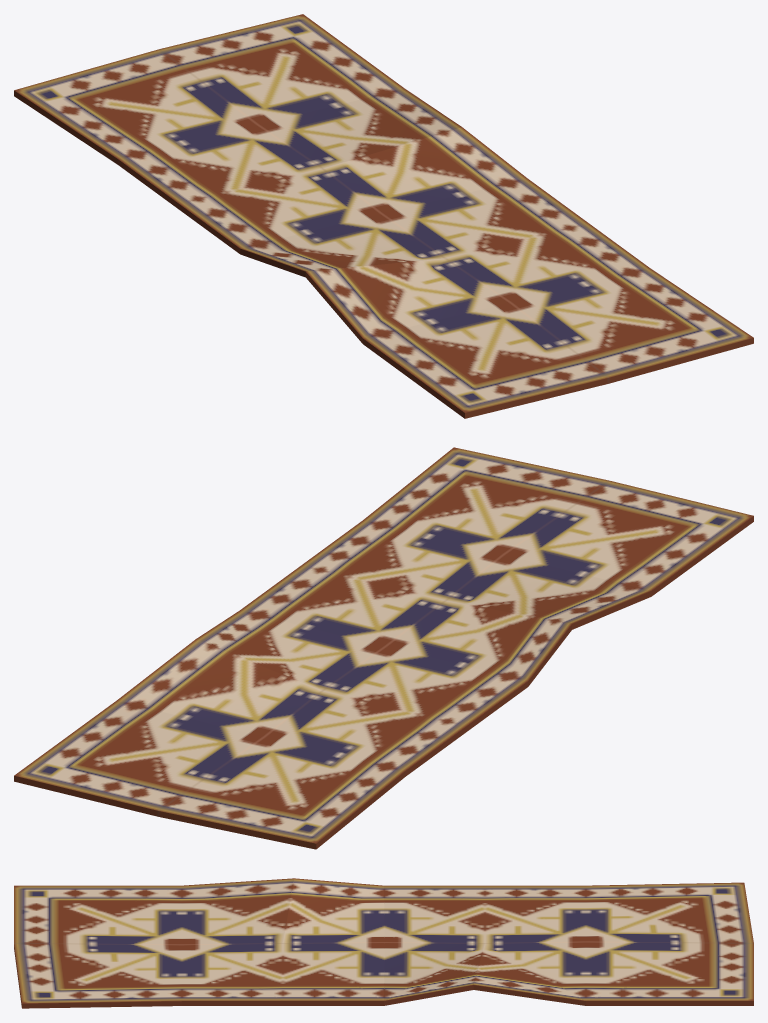
Rendered from SM_Prop_Rug_10.glb.
3 views of the same model, one above another, from view 1: azimuth 30°, elevation 25°; view 2: azimuth 150°, elevation 25°; view 3: azimuth 270°, elevation 25° (orthographic). The views are drawn at different scales.
Visible parts, largest first — view 1: SM_Prop_Rug_10; view 2: SM_Prop_Rug_10; view 3: SM_Prop_Rug_10.
Part boxes in pixels (x1,y1,x2,y2): SM_Prop_Rug_10: (14,14,753,418); SM_Prop_Rug_10: (14,447,753,849); SM_Prop_Rug_10: (14,878,753,1008).
Size of the model in its own units: 2.18 by 0.1387 by 5.64.
Materials: 1 (1 with a texture image).
